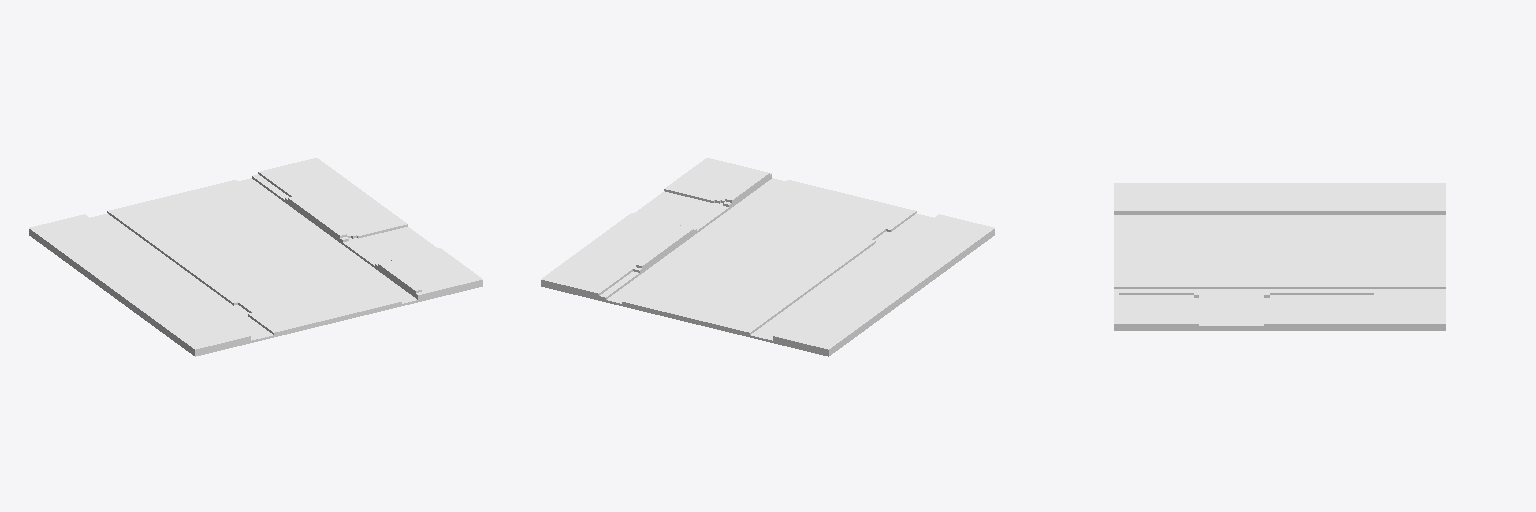
Rendered from GDS2_Flooring-14.obj.
The picture shows the model from 3 angles: view 1: azimuth 30°, elevation 25°; view 2: azimuth 150°, elevation 25°; view 3: azimuth 270°, elevation 25°; orthographic projection.
Visible parts, largest first — view 1: GDS2_Flooring-14; view 2: GDS2_Flooring-14; view 3: GDS2_Flooring-14.
Part boxes in pixels (x1,y1,x2,y2): GDS2_Flooring-14: (29, 158, 482, 356); GDS2_Flooring-14: (541, 158, 994, 356); GDS2_Flooring-14: (1114, 183, 1445, 330).
Size of the model in its own units: 12.8 by 0.4 by 12.8.